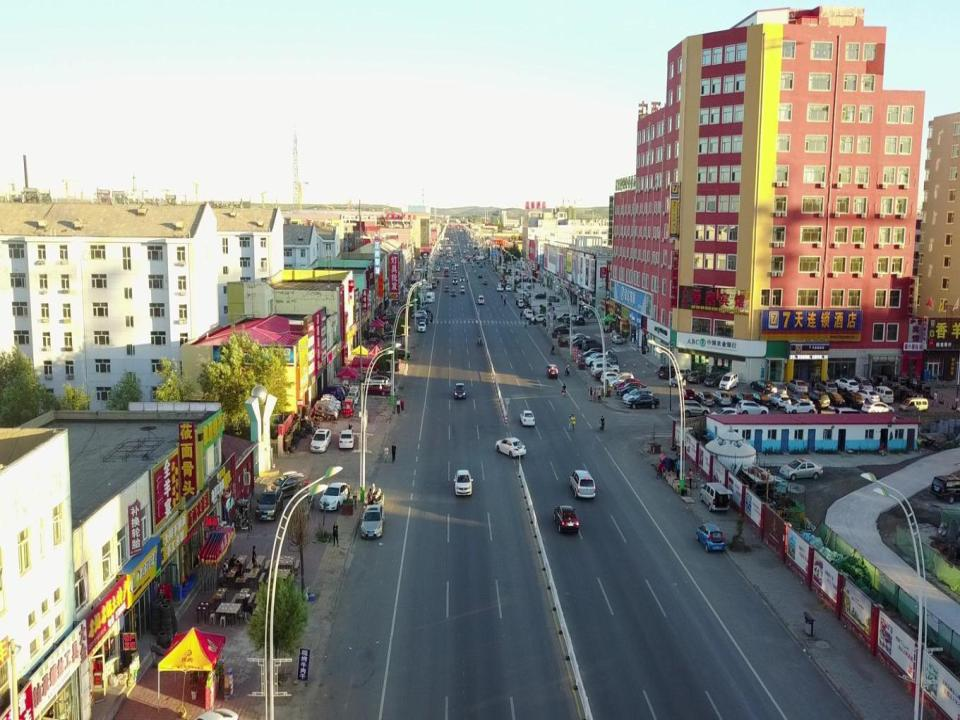car: (256, 486, 282, 522), (780, 459, 823, 480), (361, 503, 384, 538), (320, 482, 348, 510), (697, 524, 724, 552), (554, 503, 578, 532), (268, 479, 306, 497), (678, 399, 709, 418), (785, 397, 816, 415), (496, 437, 525, 456), (310, 426, 330, 453), (737, 400, 770, 416), (862, 397, 895, 413), (585, 354, 615, 371), (748, 376, 778, 393), (590, 362, 622, 376), (584, 347, 608, 365), (808, 389, 830, 408), (455, 469, 472, 493), (616, 383, 650, 395), (731, 391, 754, 408), (316, 402, 339, 419), (787, 376, 809, 393), (710, 408, 738, 421), (616, 378, 644, 391), (610, 373, 636, 387), (366, 384, 392, 398), (846, 389, 865, 408), (629, 396, 659, 408), (320, 395, 344, 410), (835, 376, 858, 391), (572, 336, 598, 349), (792, 392, 813, 408), (859, 388, 880, 404), (769, 391, 791, 406), (714, 388, 732, 406), (854, 374, 873, 391), (322, 396, 342, 412), (626, 389, 650, 402), (720, 371, 738, 388), (600, 372, 623, 385), (686, 369, 707, 383), (366, 376, 390, 388), (382, 332, 406, 344), (390, 347, 412, 360), (339, 431, 353, 451), (705, 371, 722, 387), (679, 386, 697, 401), (818, 378, 837, 392), (680, 385, 696, 401), (674, 366, 692, 380), (581, 339, 603, 350), (697, 391, 713, 406), (520, 409, 534, 426), (568, 333, 588, 344), (530, 313, 548, 325), (656, 365, 672, 378), (547, 362, 559, 378), (554, 324, 574, 333), (828, 391, 844, 402), (452, 382, 464, 396), (556, 311, 572, 321), (567, 314, 582, 324), (410, 311, 428, 319), (611, 334, 624, 345), (546, 294, 560, 303), (417, 304, 431, 313), (416, 321, 426, 332), (524, 310, 534, 319), (575, 316, 586, 324), (518, 289, 532, 295), (523, 307, 532, 316), (535, 292, 546, 299), (428, 280, 435, 288), (420, 315, 426, 324), (505, 284, 512, 291), (497, 286, 504, 293), (518, 299, 524, 307), (450, 288, 456, 296), (452, 277, 458, 284), (481, 279, 488, 285), (444, 285, 449, 293), (478, 271, 483, 278), (460, 274, 464, 281), (471, 261, 476, 266), (479, 262, 483, 266)
truck: (426, 292, 436, 304)
van: (700, 479, 734, 513), (568, 469, 595, 499), (899, 395, 930, 414), (875, 385, 894, 404), (477, 294, 484, 304), (460, 285, 464, 294)
